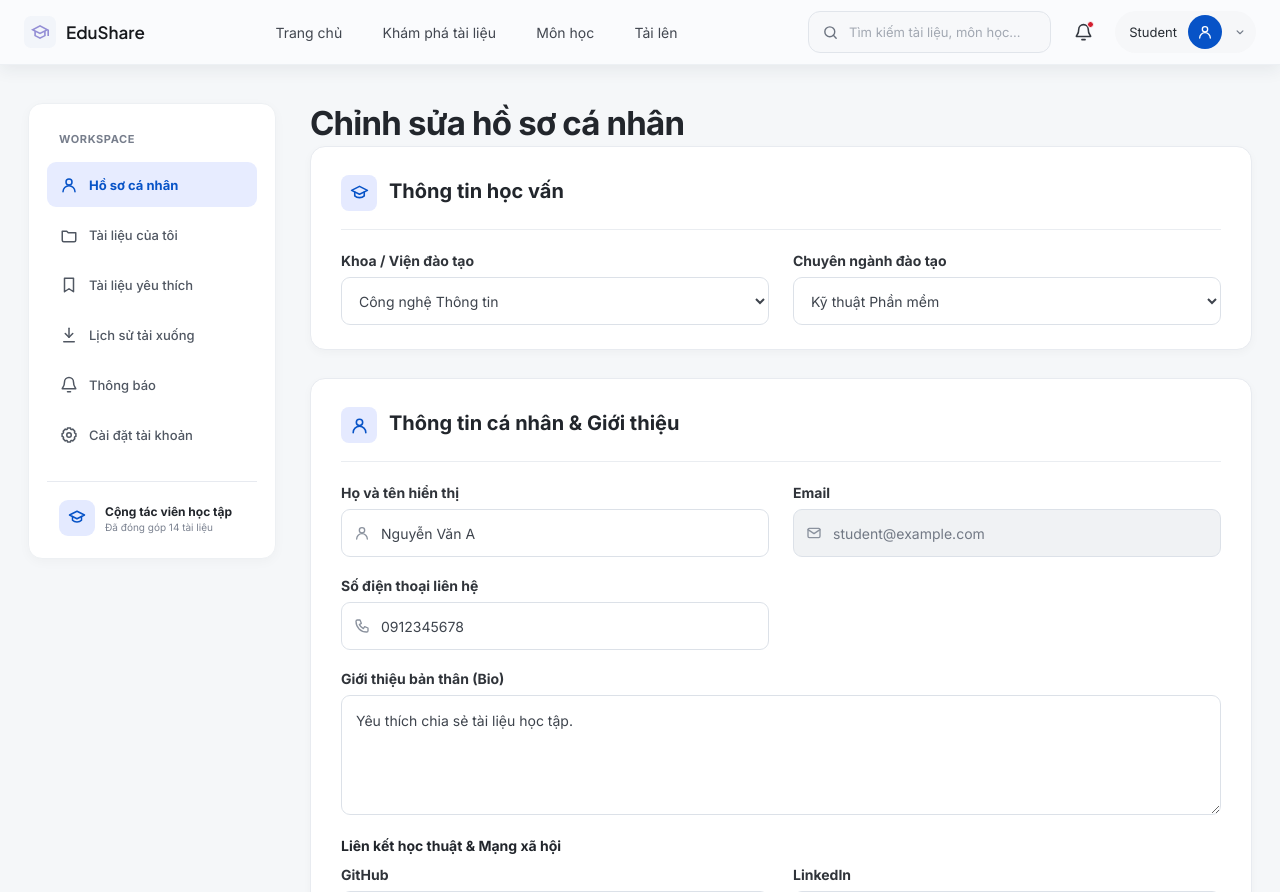
Test: personal profile › loads the edit form and saves all editable fields
Replace the text in the field labelled "Họ và tên hiển thị" with "Nguyễn Văn B": (555, 533) [341, 509, 769, 557]
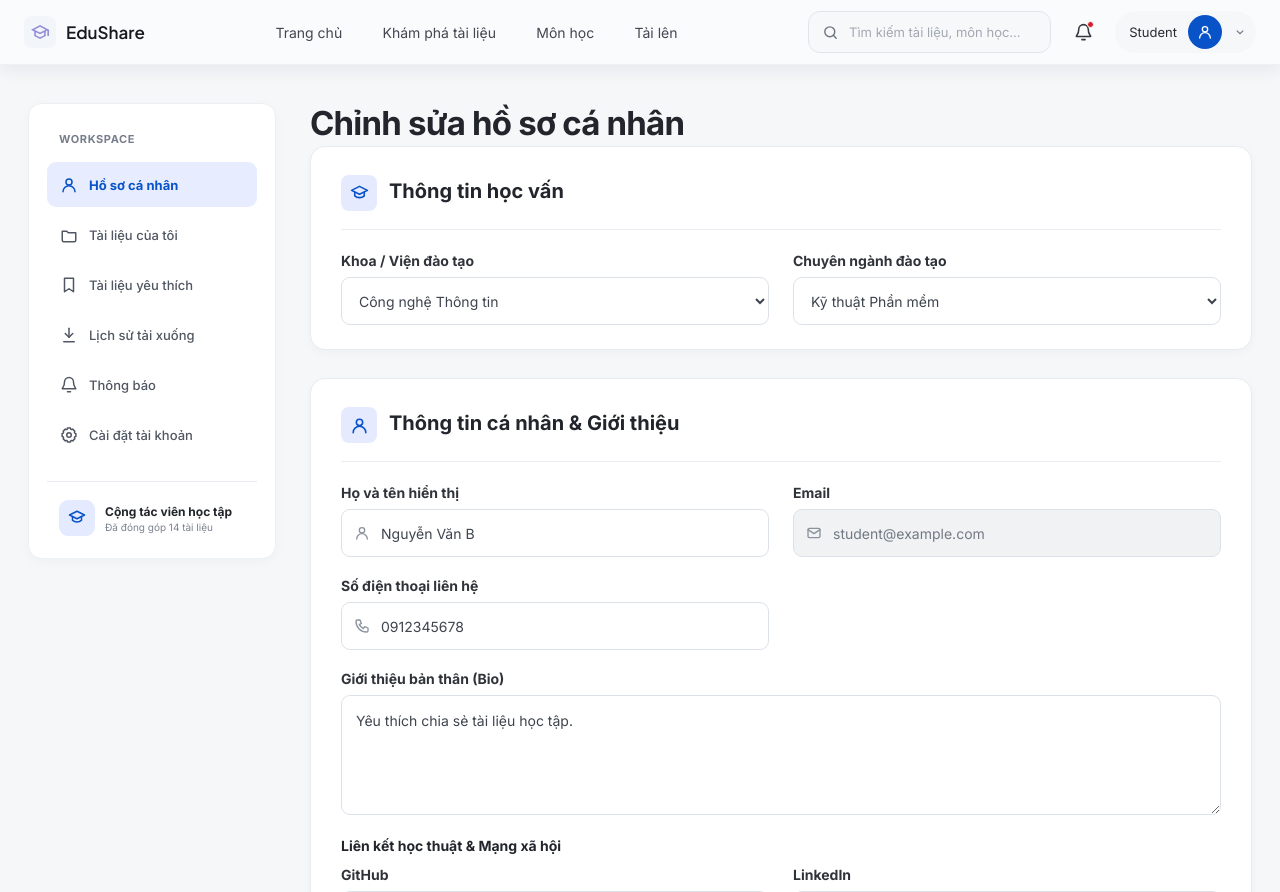
Select "Khoa học Máy tính" in the dropdown labelled "Chuyên ngành đào tạo": (1007, 301) [793, 277, 1221, 325]
(page scrolled)
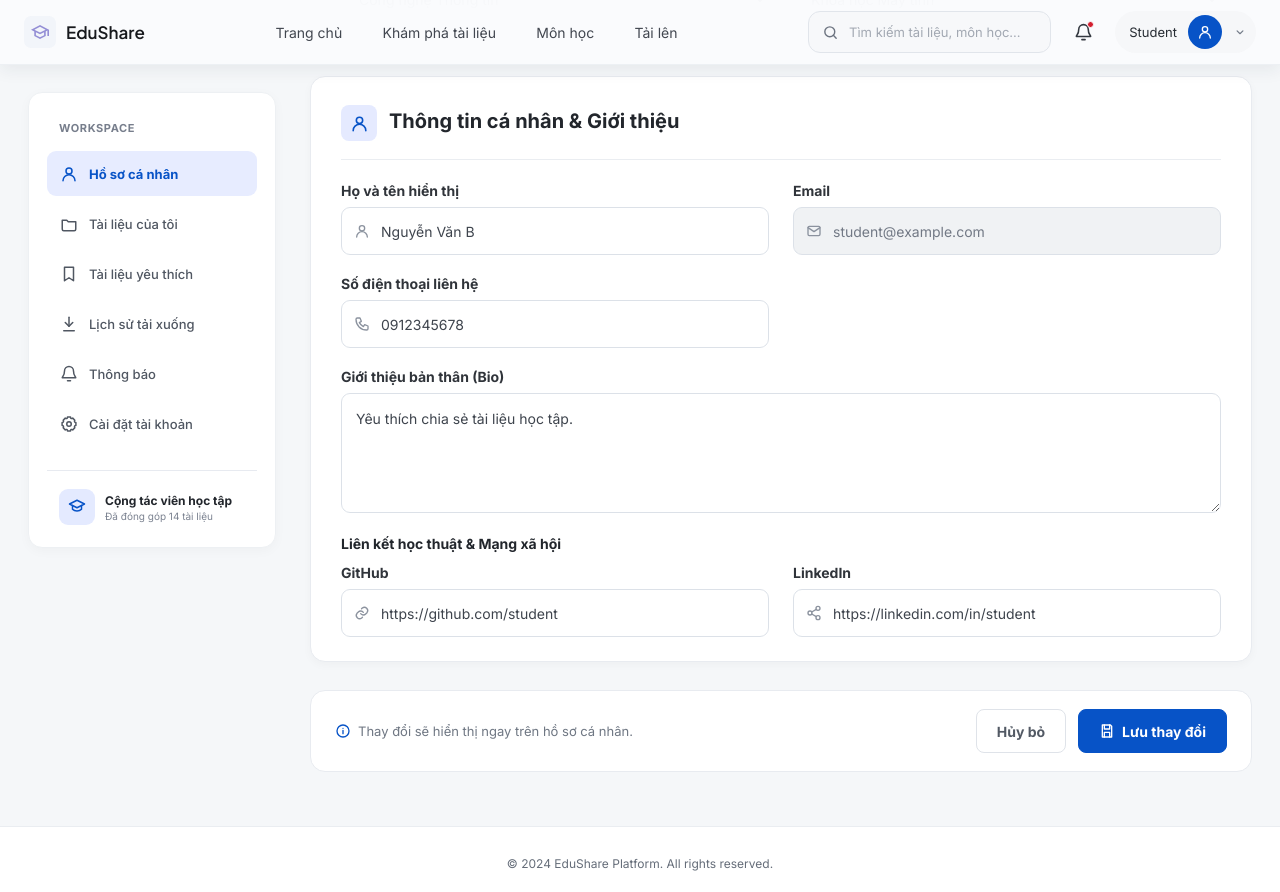
Replace the text in the field named "Liên kết GitHub" with "https://github.com/new": (555, 613) [341, 589, 769, 637]
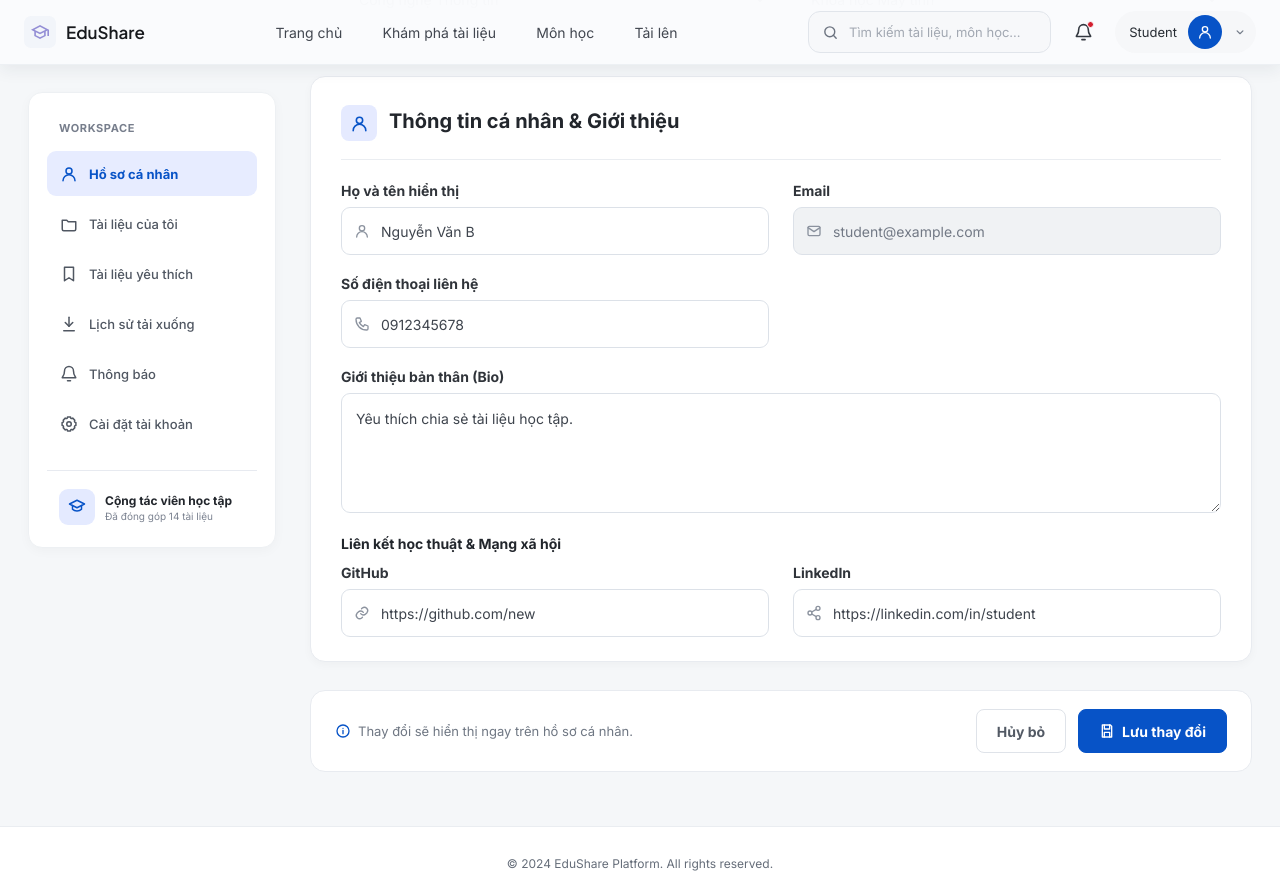
Click the button "Lưu thay đổi": click(1153, 731) [1078, 709, 1227, 753]
(page scrolled)
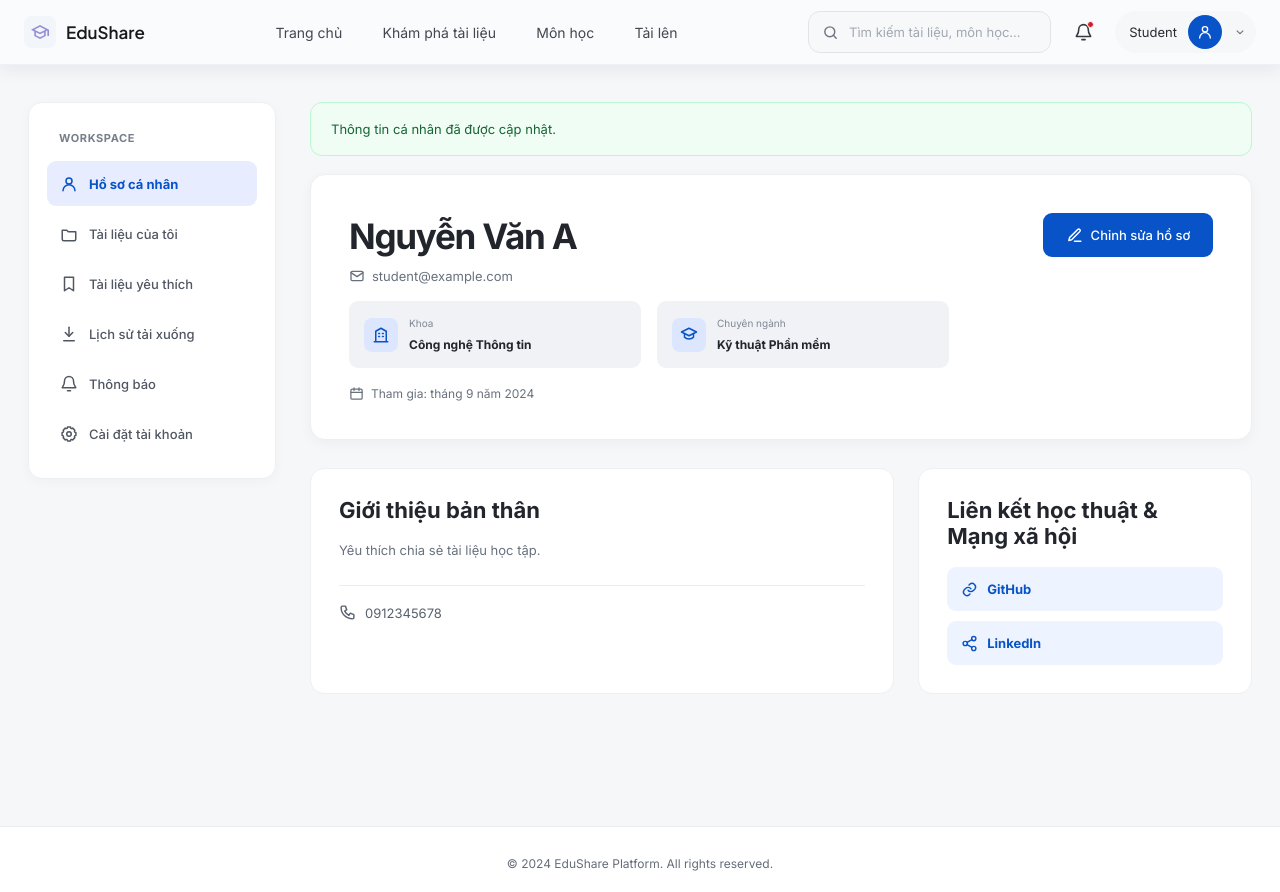
Expected: the text "Thông tin cá nhân đã được cập nhật." is shown, [310, 102, 1252, 156]
